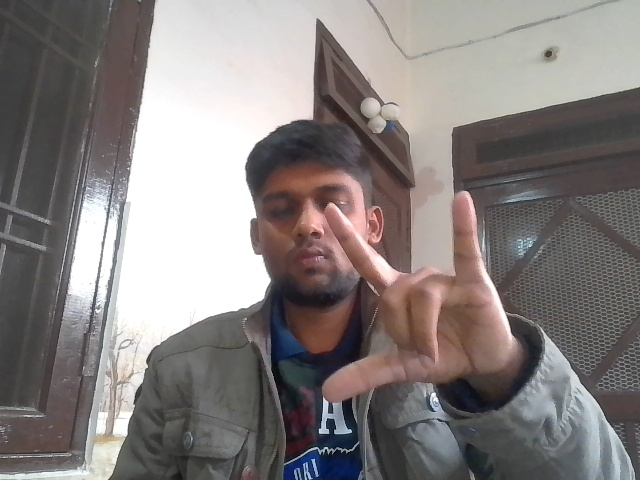ILoveYou: (315, 200, 514, 405)
